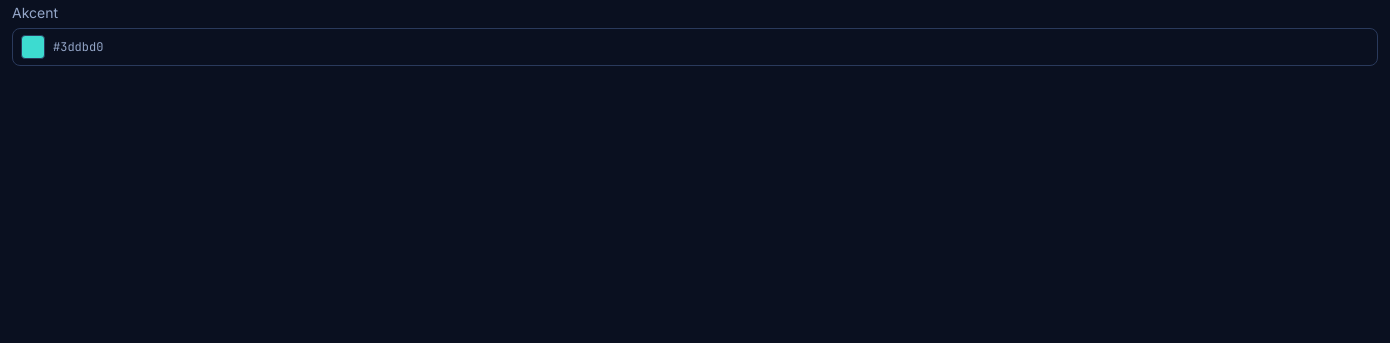
Test: ColorPicker › otwiera panel po kliknięciu
Click the button with aria-label "Akcent" at (78, 47), box [12,28,1378,66]
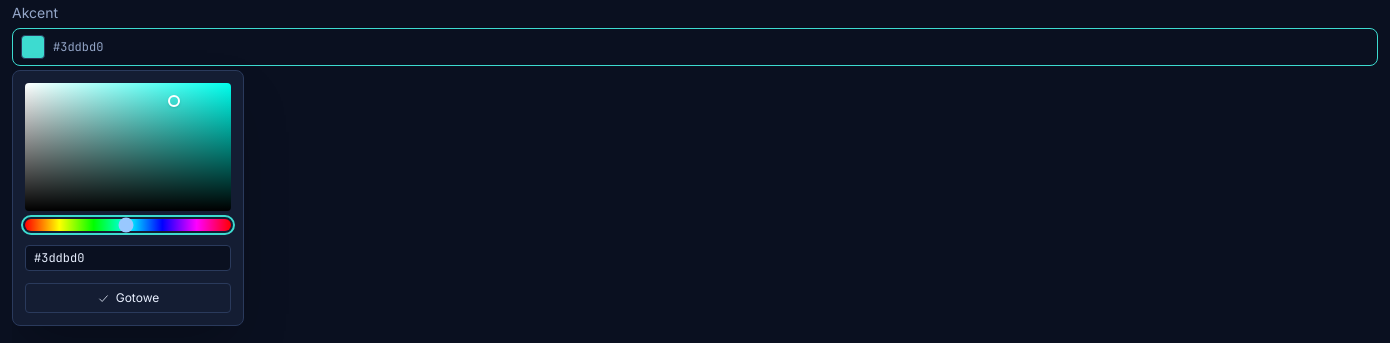
Check: the slider named "Barwa" is shown, box [25,219,231,231]
